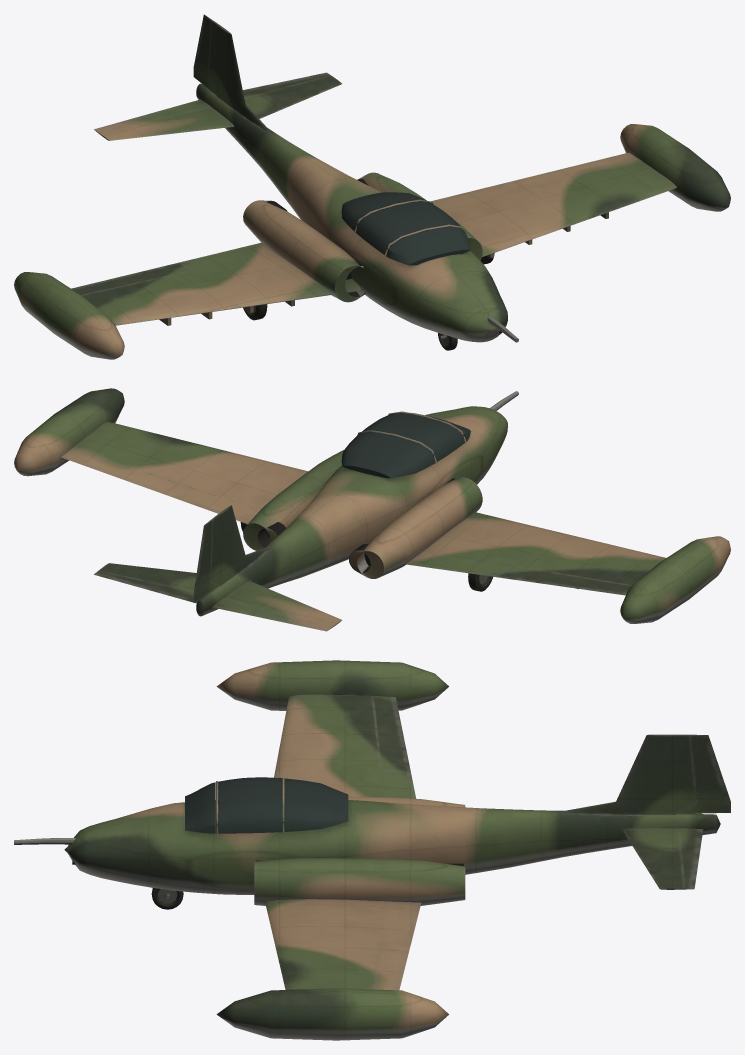
3 renders of one model, top to bottom at view 1: azimuth 30°, elevation 25°; view 2: azimuth 150°, elevation 25°; view 3: azimuth 270°, elevation 25°, orthographic. The views are drawn at different scales.
Visible parts, largest first — view 1: than, nap_buong_lai, canh_lien_trai, canh_lien_phai, canh_lai_huong, canh_lai_do_cao_phai, canh_lai_do_cao_trai; view 2: than, nap_buong_lai, canh_lien_trai, canh_lien_phai, canh_lai_huong, canh_lai_do_cao_phai, canh_lai_do_cao_trai; view 3: than, nap_buong_lai, canh_lai_huong, canh_lien_phai, canh_lien_trai, canh_lai_do_cao_trai.
Boxes of the visible parts, left/top/right/bottom form: than: left=14, top=20, right=730, bottom=359; nap_buong_lai: left=341, top=192, right=463, bottom=256; canh_lien_trai: left=498, top=152, right=638, bottom=192; canh_lien_phai: left=71, top=262, right=191, bottom=295; canh_lai_huong: left=193, top=14, right=215, bottom=94; canh_lai_do_cao_phai: left=94, top=99, right=210, bottom=132; canh_lai_do_cao_trai: left=243, top=72, right=330, bottom=97; than: left=14, top=388, right=730, bottom=628; nap_buong_lai: left=341, top=411, right=466, bottom=478; canh_lien_trai: left=61, top=448, right=191, bottom=499; canh_lien_phai: left=498, top=566, right=631, bottom=595; canh_lai_huong: left=193, top=519, right=218, bottom=602; canh_lai_do_cao_phai: left=212, top=598, right=331, bottom=631; canh_lai_do_cao_trai: left=94, top=571, right=199, bottom=603; than: left=14, top=660, right=720, bottom=1040; nap_buong_lai: left=216, top=777, right=348, bottom=833; canh_lai_huong: left=678, top=734, right=730, bottom=813; canh_lien_phai: left=372, top=696, right=410, bottom=772; canh_lien_trai: left=374, top=942, right=410, bottom=990; canh_lai_do_cao_trai: left=679, top=828, right=703, bottom=889.
Bounding box in the file's own units: 11.38 × 2.63 × 9.85.
Materials: 1 (1 with a texture image).
